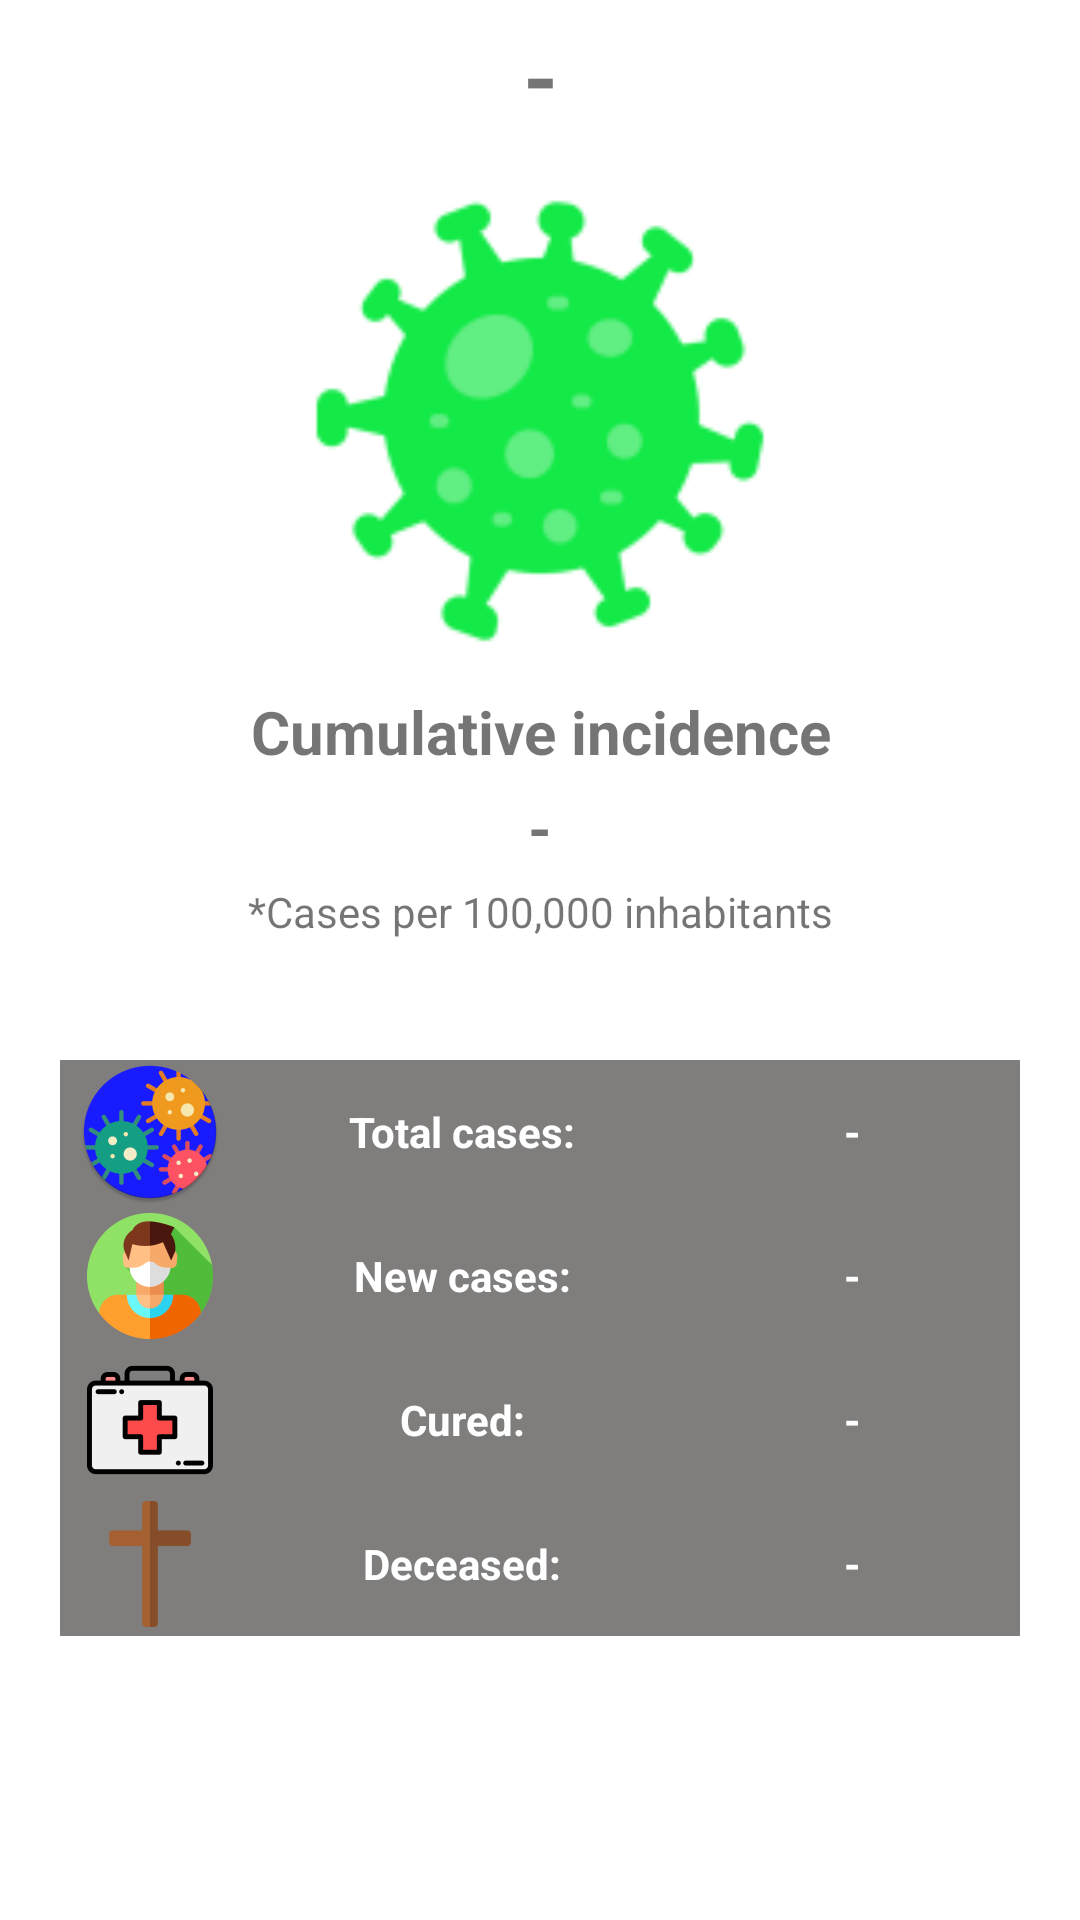

Icon bounding boxes for this 1080 x 1920 phone screenshot, format (x1=x1, y1=y1, x2=x2, y2=y2):
curados: (x1=87, y1=1366, x2=213, y2=1474)
fallecidos: (x1=109, y1=1501, x2=191, y2=1627)
nuevoscasos: (x1=87, y1=1213, x2=213, y2=1339)
